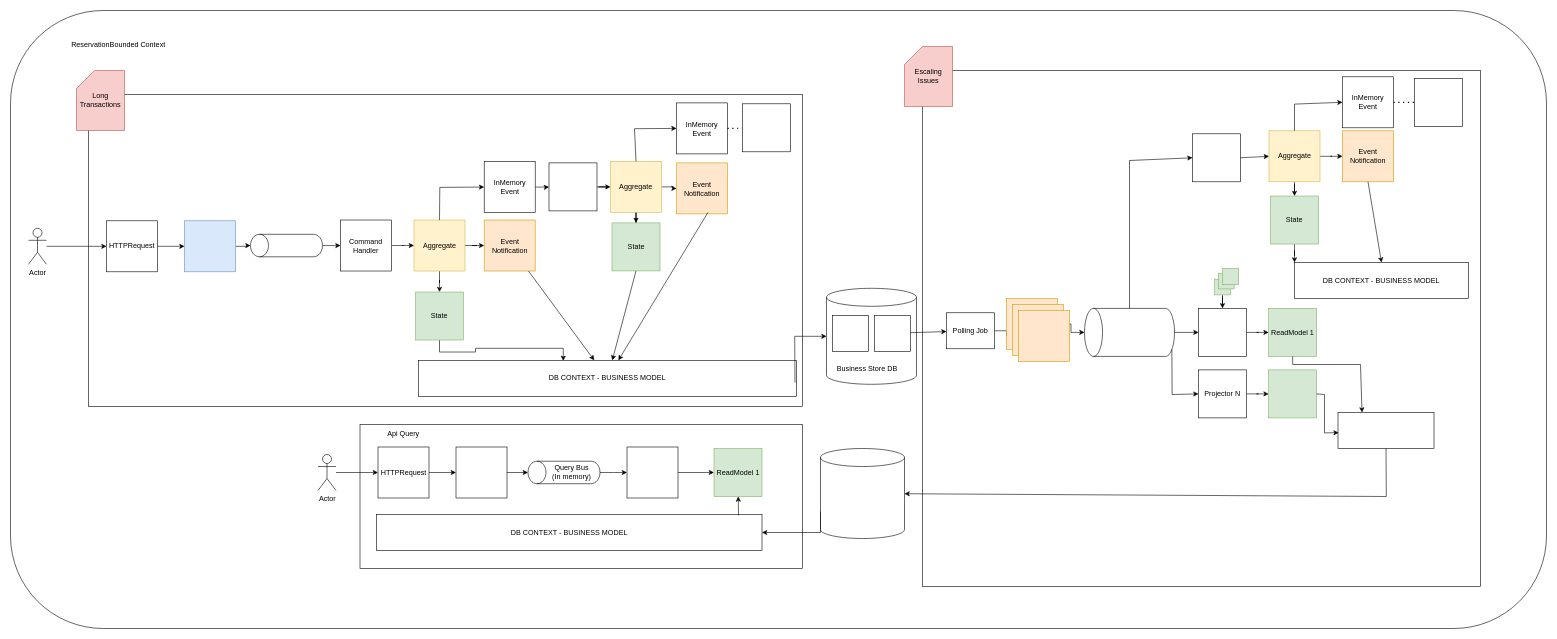
Some shapes in this 1557 by 639 pixel diagram are drawn without their labels. The shapes that lost their labels are listed below. From the top down, each one's box as (x1, y1, x2, y2) in pixels, then its label:
(1192, 133, 1240, 182): Event Notification Handler
(548, 162, 597, 211): Event Handler
(184, 220, 236, 272): Command
(250, 234, 322, 257): Command Bus (In Memory)
(832, 315, 868, 351): Business Models
(874, 315, 910, 351): Event Collection
(1018, 310, 1070, 362): Event Notifications
(1084, 308, 1174, 356): InMemory EventBus
(1198, 308, 1246, 356): Projector 1
(1268, 369, 1317, 418): ReadModel N
(1337, 412, 1434, 448): DB CONTEXT READMODEL
(455, 446, 507, 498): Query
(626, 446, 678, 498): Query Handler
(820, 448, 904, 538): ReadModelStore
